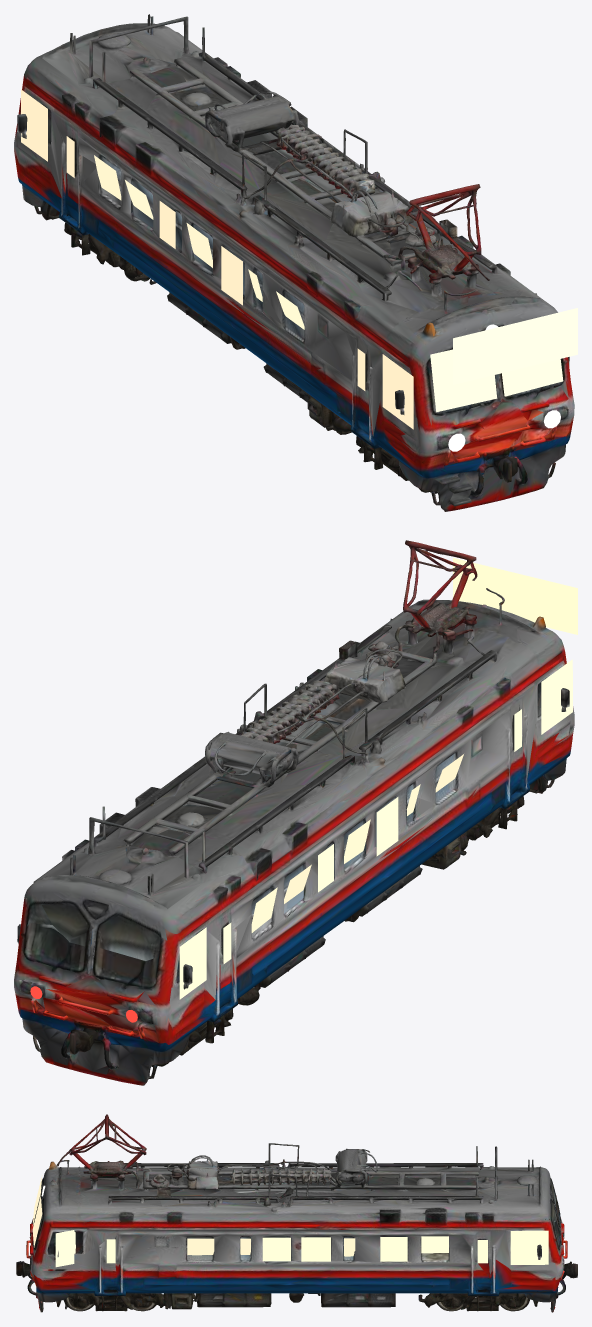
File: m-elloco.glb
3 renders of one model, top to bottom at view 1: azimuth 30°, elevation 25°; view 2: azimuth 150°, elevation 25°; view 3: azimuth 270°, elevation 25°, orthographic. The views are drawn at different scales.
Parts seen in each view (by area): view 1: mesh_node, win_glass, cabwin_F; view 2: mesh_node, win_glass, cabwin_F; view 3: mesh_node, win_glass.
Part boxes in pixels (x1,y1,x2,y2): mesh_node: [14, 14, 574, 511]; win_glass: [21, 89, 563, 429]; cabwin_F: [453, 308, 577, 384]; mesh_node: [14, 540, 574, 1085]; win_glass: [179, 659, 572, 999]; cabwin_F: [453, 558, 577, 634]; mesh_node: [16, 1114, 577, 1312]; win_glass: [32, 1175, 548, 1267].
Bounding box in the file's own units: 0.4365 × 0.6598 × 1.91.
Materials: 5 (1 with a texture image).
